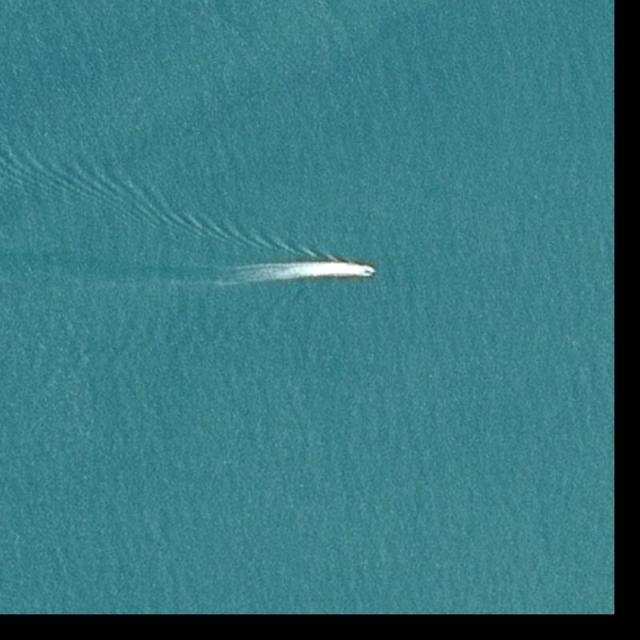ship: (362, 268, 376, 274)
